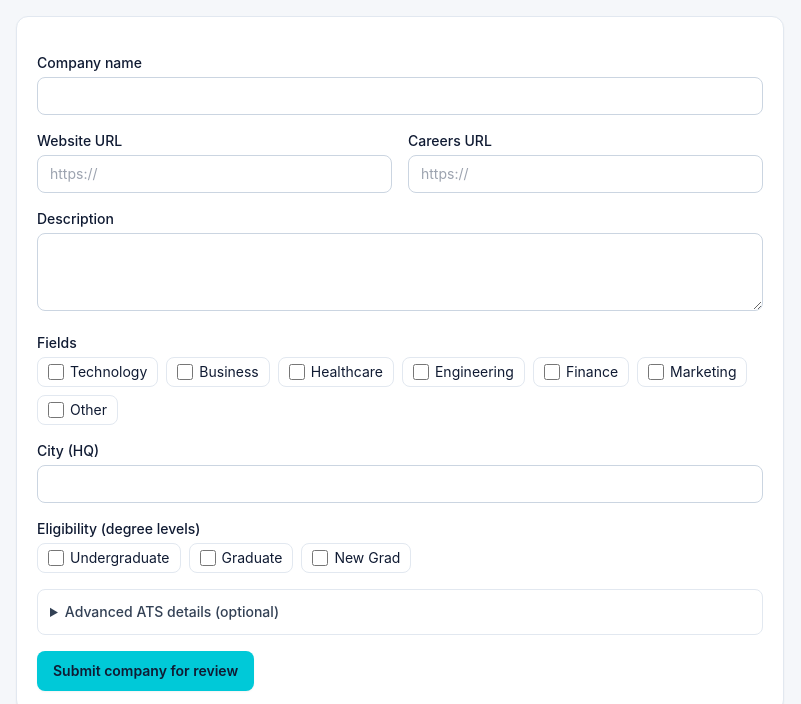
Test: Submit page — company form › shows validation errors for an empty submission
(page scrolled)
Click the button "Submit company for review" at (146, 671), box [37,651,254,691]
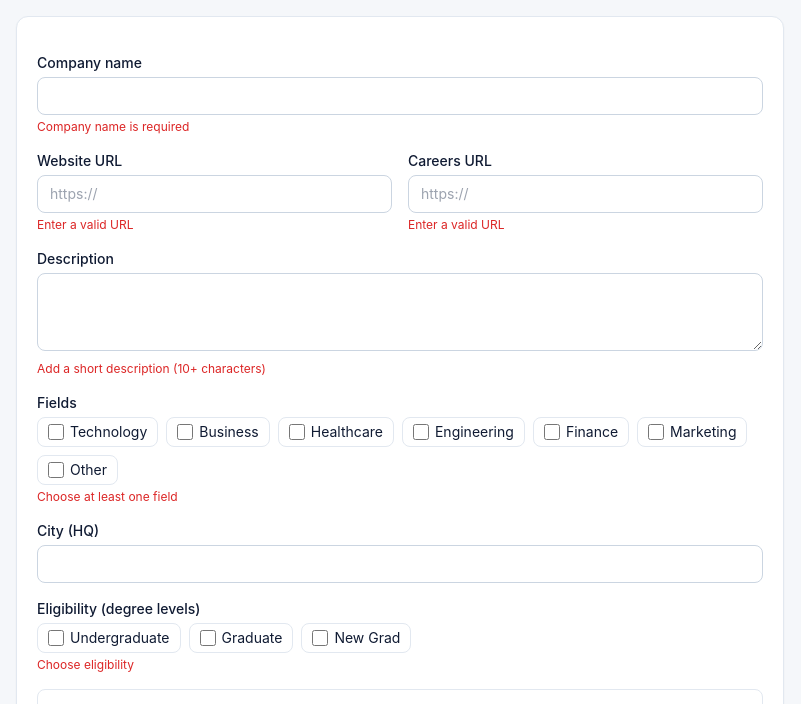
Now the text "Company name is required" is shown, box [37,119,189,134]
